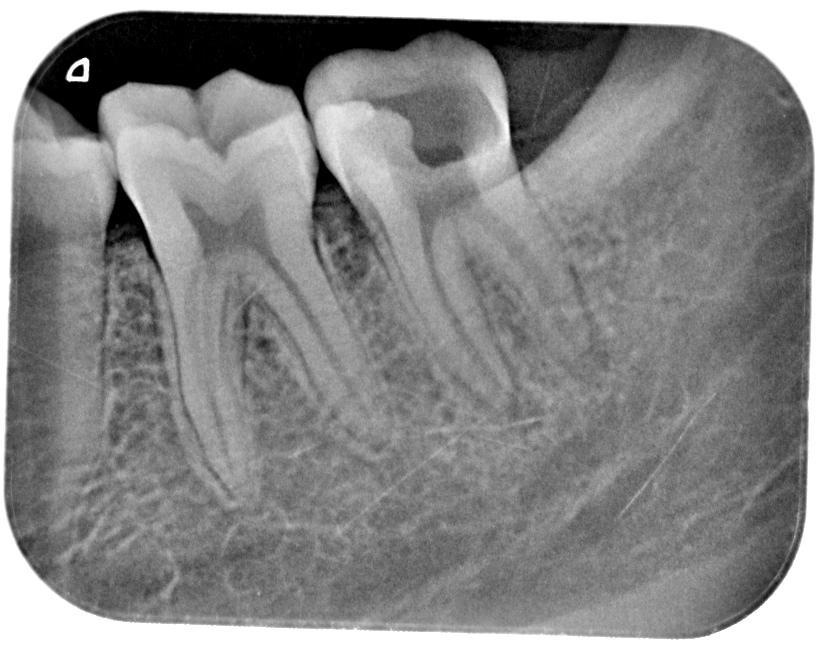individual-tooth-8tto: (102, 62, 407, 491), (300, 26, 611, 407)
